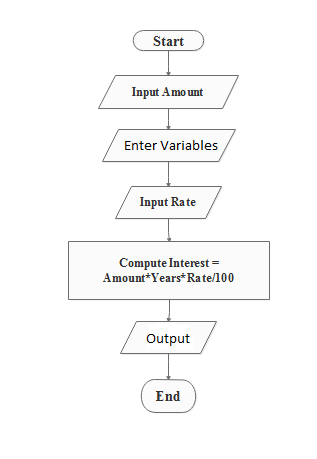arrow: (163, 52, 173, 76), (164, 160, 172, 186), (165, 216, 173, 241), (165, 355, 173, 380), (165, 298, 173, 322), (164, 109, 173, 129)
data: (98, 73, 239, 109), (102, 127, 236, 164), (114, 184, 222, 221), (119, 320, 217, 354)
process: (66, 239, 272, 301)
terminator: (139, 378, 196, 414), (130, 28, 205, 52)
text: (102, 255, 234, 284), (121, 138, 219, 152), (130, 86, 205, 100), (145, 331, 191, 346), (137, 197, 196, 207), (153, 389, 181, 405), (151, 34, 185, 47)
